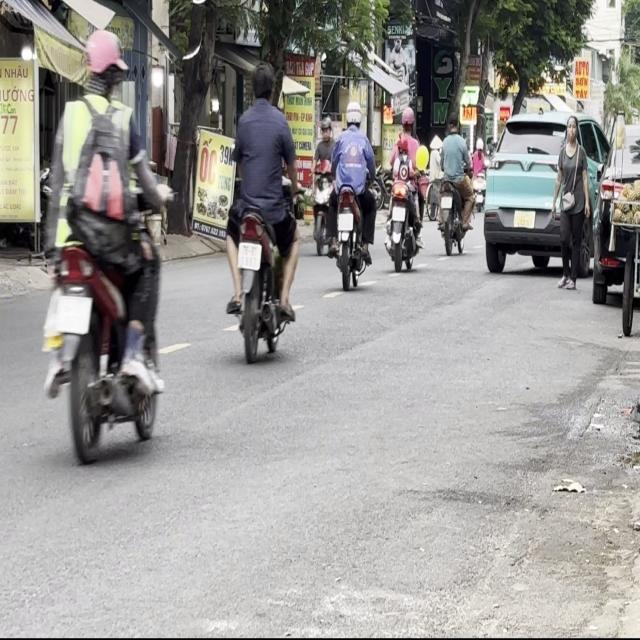helmet: (82, 29, 127, 97), (345, 101, 361, 128)
licenseplate: (39, 21, 170, 460), (221, 60, 301, 361), (331, 100, 377, 288)
motorcyclist: (249, 62, 274, 104)
nohelmet: (48, 294, 92, 334), (238, 241, 261, 270), (338, 212, 353, 230)
